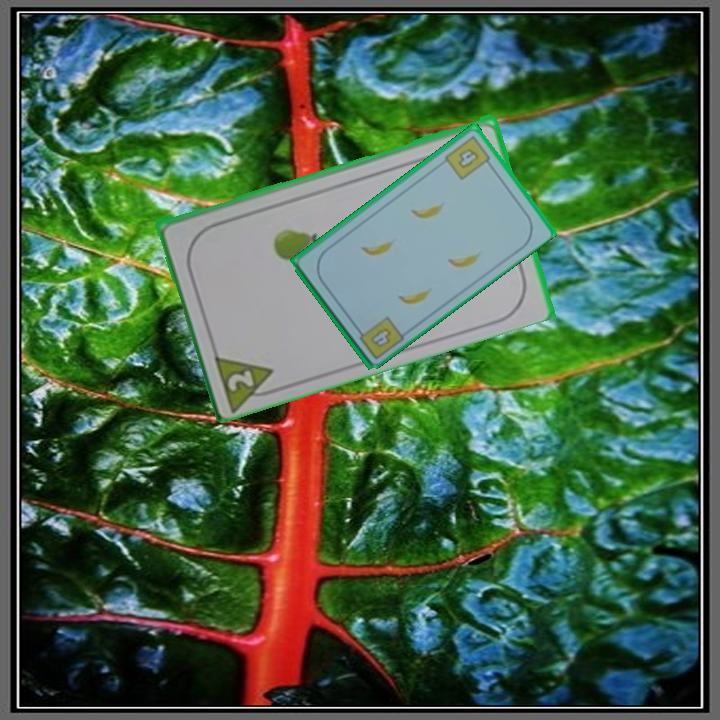2p: (209, 347, 284, 411)
4b: (441, 132, 495, 183), (352, 313, 406, 362)
